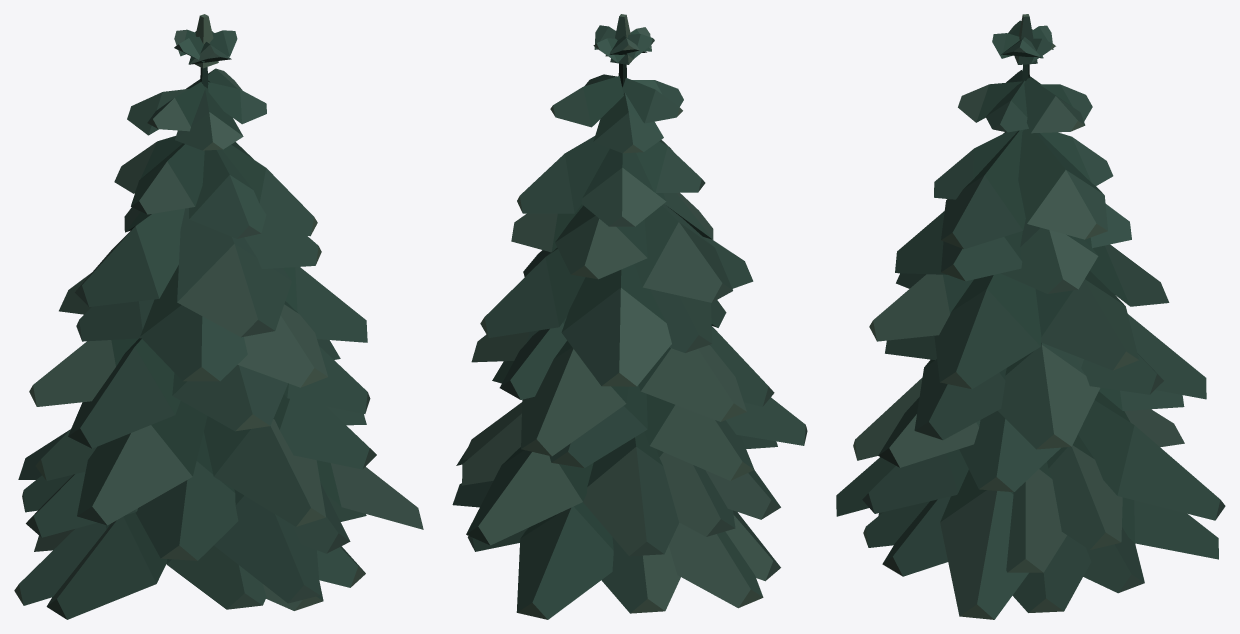
File: pine-wide.glb
The picture shows the model from 3 angles, left to right: view 1: azimuth 30°, elevation 25°; view 2: azimuth 150°, elevation 25°; view 3: azimuth 270°, elevation 25°; orthographic projection. The views are drawn at different scales.
Parts seen in each view (by area): view 1: pine-wide; view 2: pine-wide; view 3: pine-wide.
Boxes of the visible parts, bbox=[...] form: pine-wide: bbox=[14, 14, 423, 619]; pine-wide: bbox=[452, 14, 807, 619]; pine-wide: bbox=[836, 14, 1225, 619].
Size of the model in its own units: 4.7 by 7.07 by 4.61.
